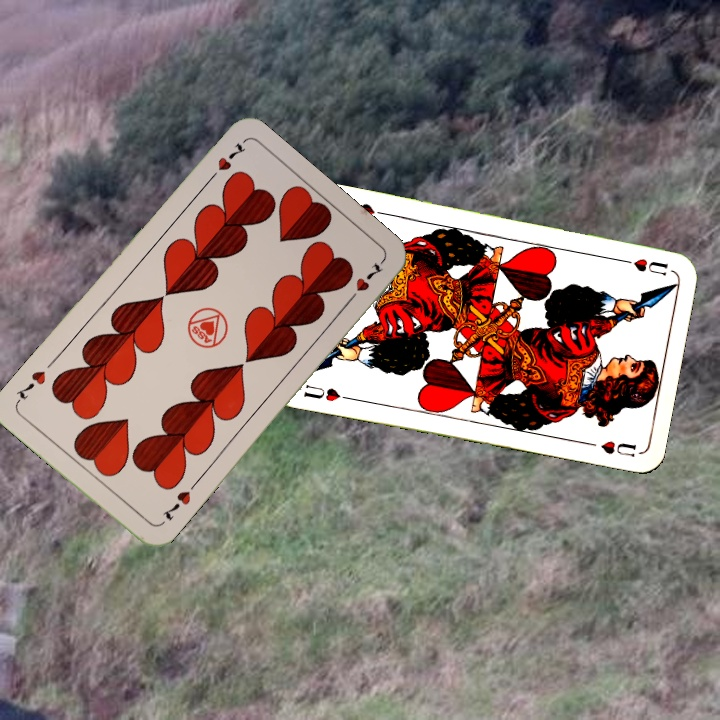H7: (203, 137, 249, 186), (158, 487, 194, 523)
HU: (614, 254, 671, 278), (300, 380, 353, 404)
